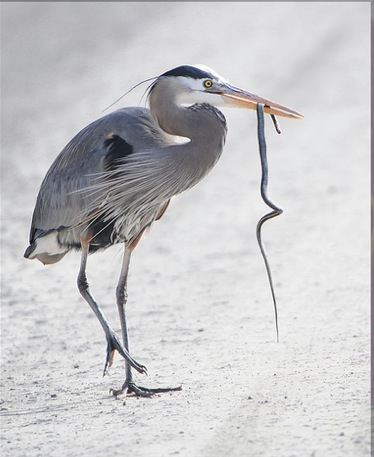heron: (23, 61, 310, 420)
